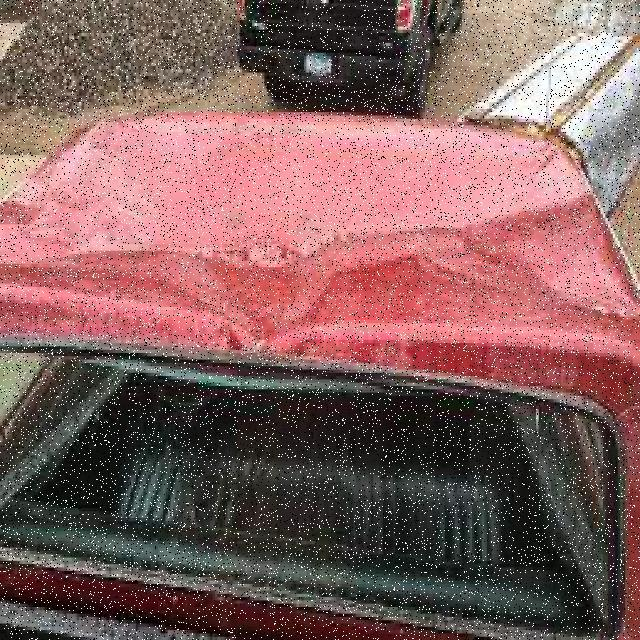roof-dent: (10, 119, 638, 419)
